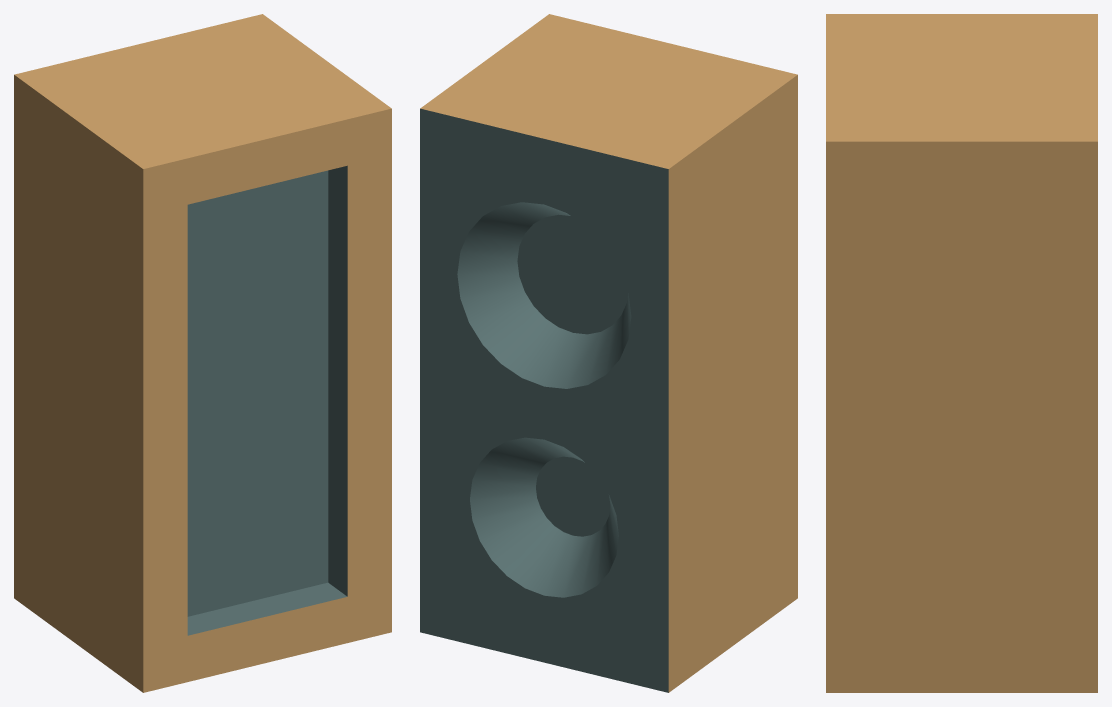
File: speakerSmall.glb
3 views of the same model, side by side, from view 1: azimuth 30°, elevation 25°; view 2: azimuth 150°, elevation 25°; view 3: azimuth 270°, elevation 25° (orthographic). The views are drawn at different scales.
Size of the model in its own units: 1.48 by 2.98 by 1.33.
